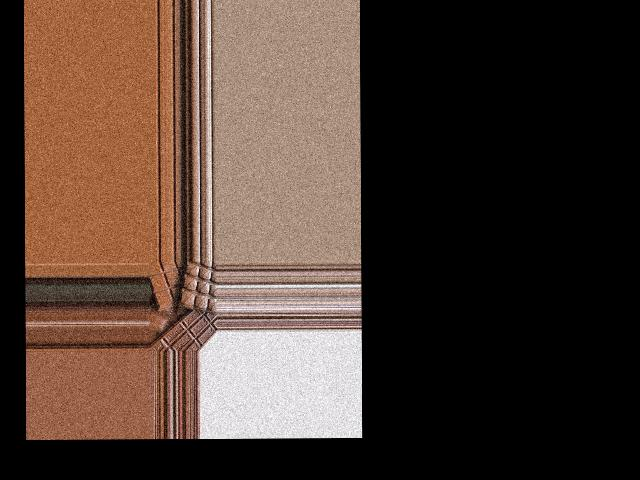chocolate: (152, 260, 192, 310)
